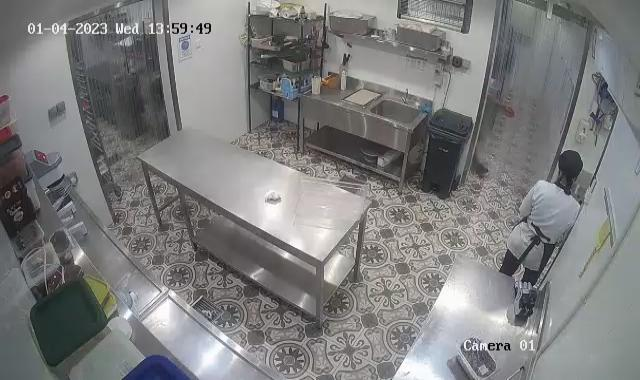no_hairnet: (558, 147, 582, 185)
